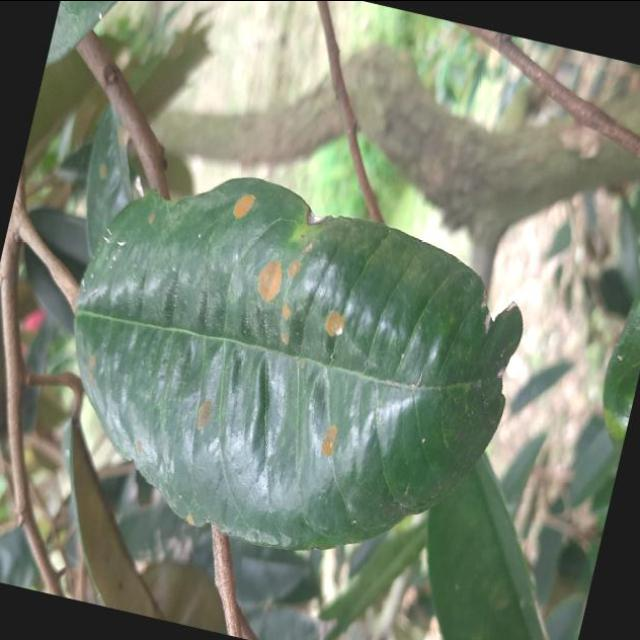Algal Leaf Spot: (20, 147, 550, 602)
